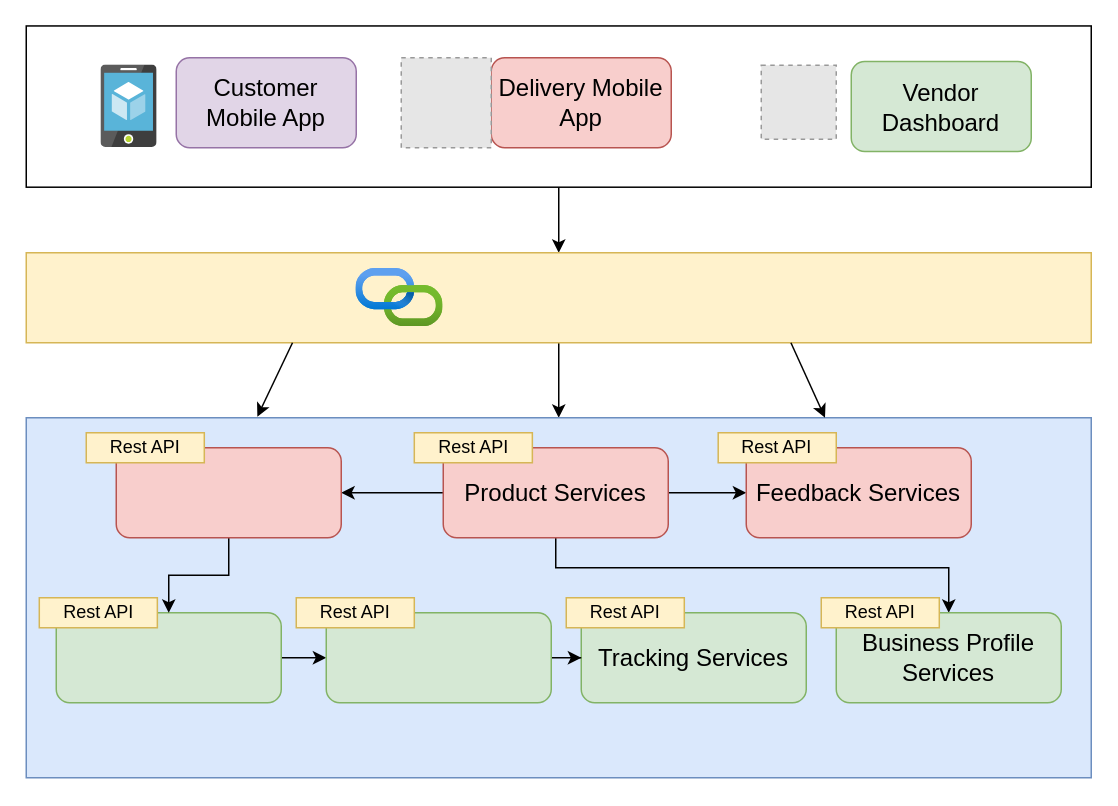
The diagram is 1118 pixels wide and 806 high, and some of its shapes have lost their labels. Grey dashed boxes stand in for pictures. Each missing label, with the box of its shape:
API Gateway: (25, 251, 1091, 343)
Cart Services: (115, 446, 341, 538)
Order Managment Services: (325, 611, 551, 703)
Payment Services: (55, 611, 281, 703)
